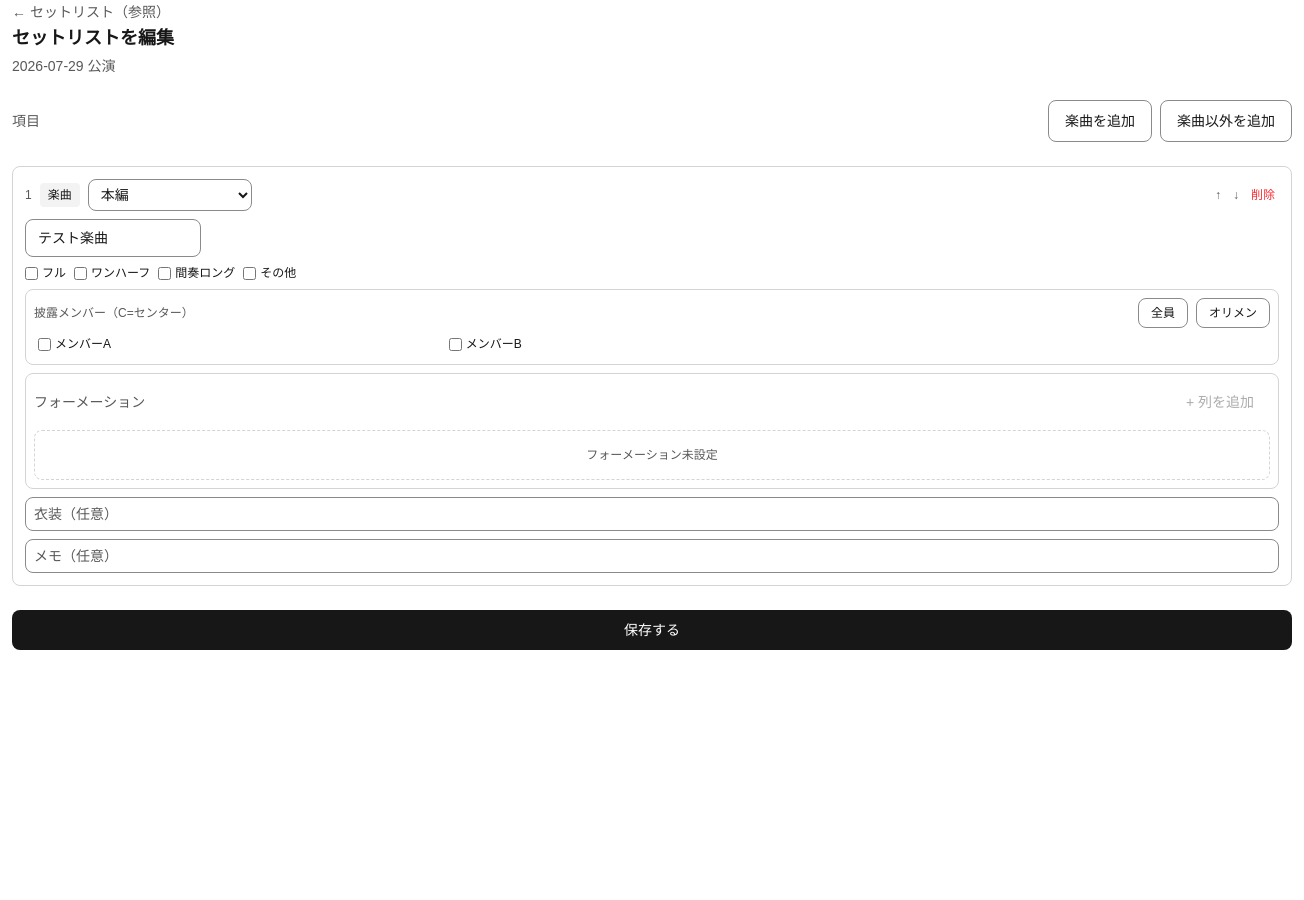
Scenario: SetlistEditor のオリメン反映 › 保存中はオリメン反映を開始できない
Click the button "保存する" at (652, 630), box [12,610,1292,650]
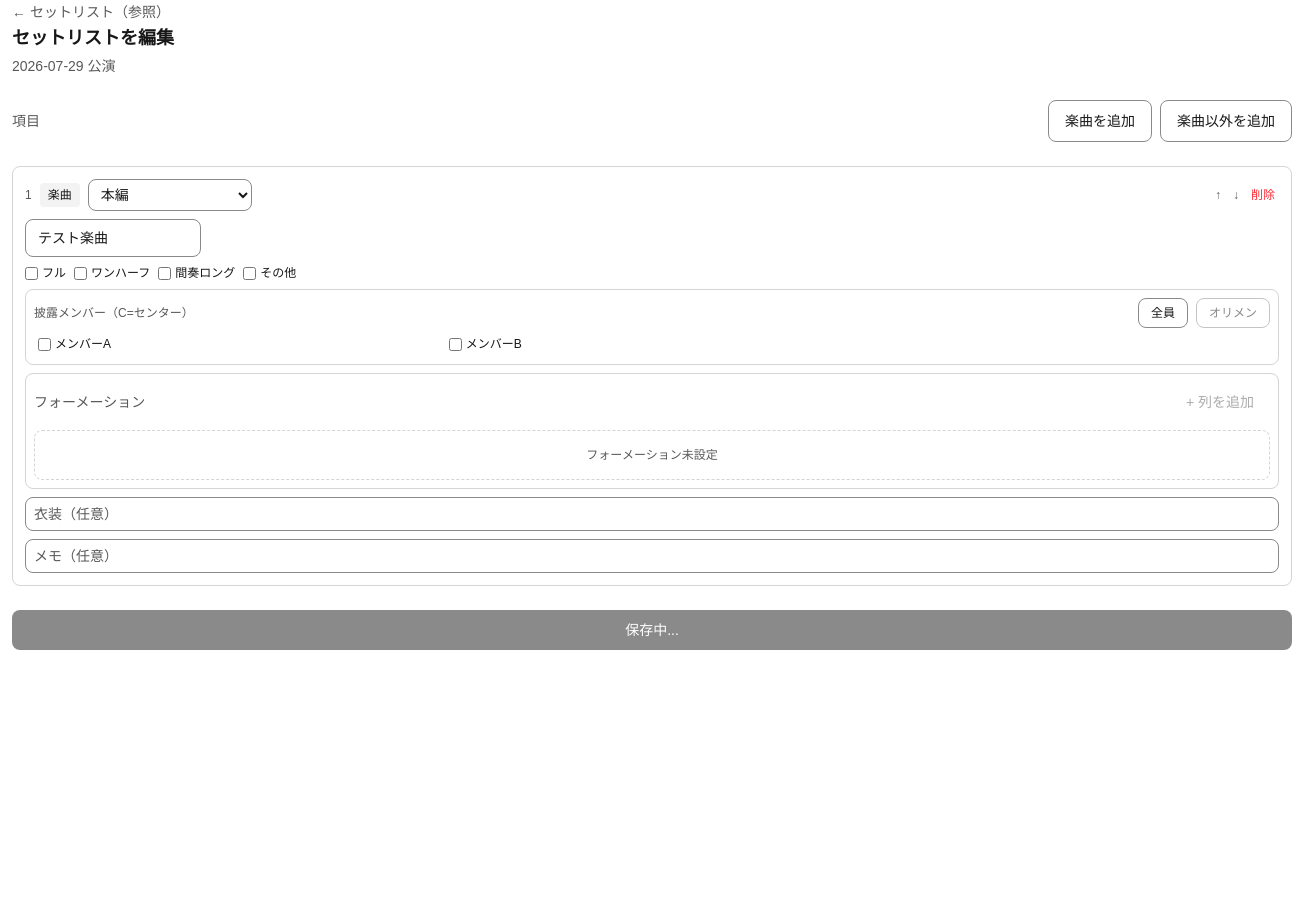
Expected: the button "保存中..." is disabled, [12,610,1292,650]
Expected: the button "オリメン" is disabled
Click the button "オリメン" at (1233, 313), box [1196,298,1270,328]
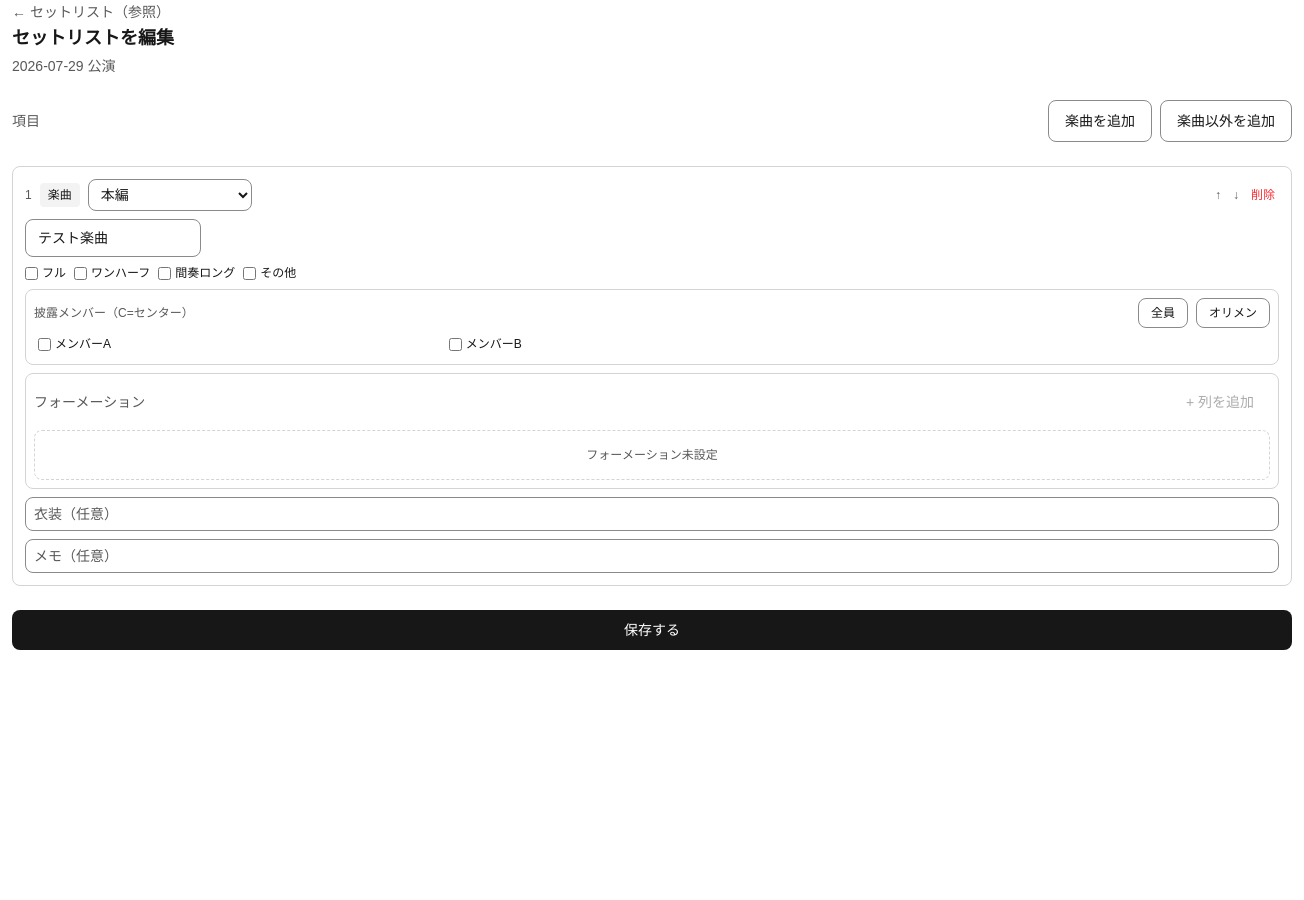
Expected: the button "保存する" is enabled, [12,610,1292,650]
